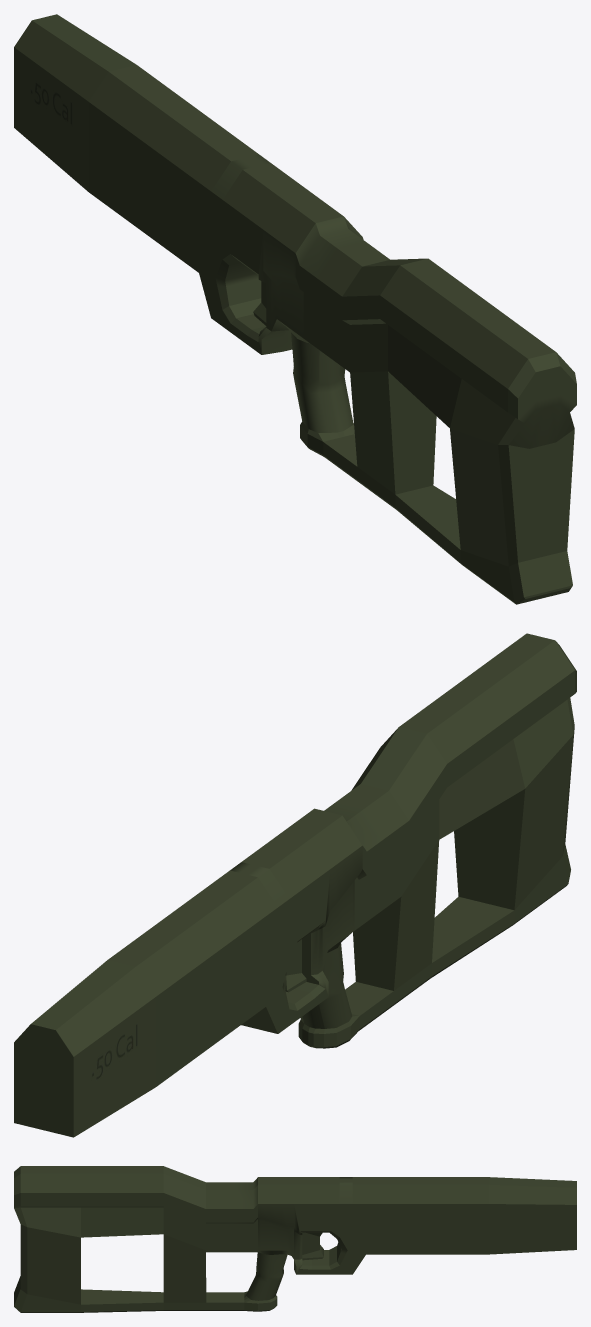
File: Sniper.fbx
3 renders of one model, top to bottom at view 1: azimuth 30°, elevation 25°; view 2: azimuth 150°, elevation 25°; view 3: azimuth 270°, elevation 25°, orthographic. The views are drawn at different scales.
Visible parts, largest first — view 1: pCylinder9; view 2: pCylinder9; view 3: pCylinder9.
Part boxes in pixels (x1=…): pCylinder9: x1=14, y1=14, x2=576, y2=604; pCylinder9: x1=14, y1=633, x2=576, y2=1137; pCylinder9: x1=14, y1=1166, x2=576, y2=1312.
Bounding box in the file's own units: 0.5735 × 1.77 × 6.64.
Materials: 1 (1 with a texture image).
